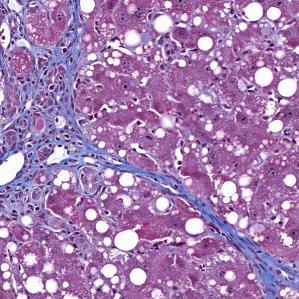fibrosis: (0, 118, 99, 210), (0, 32, 80, 128), (210, 218, 296, 294)
